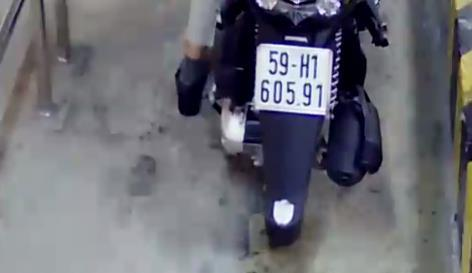lisence: (254, 41, 330, 116)
